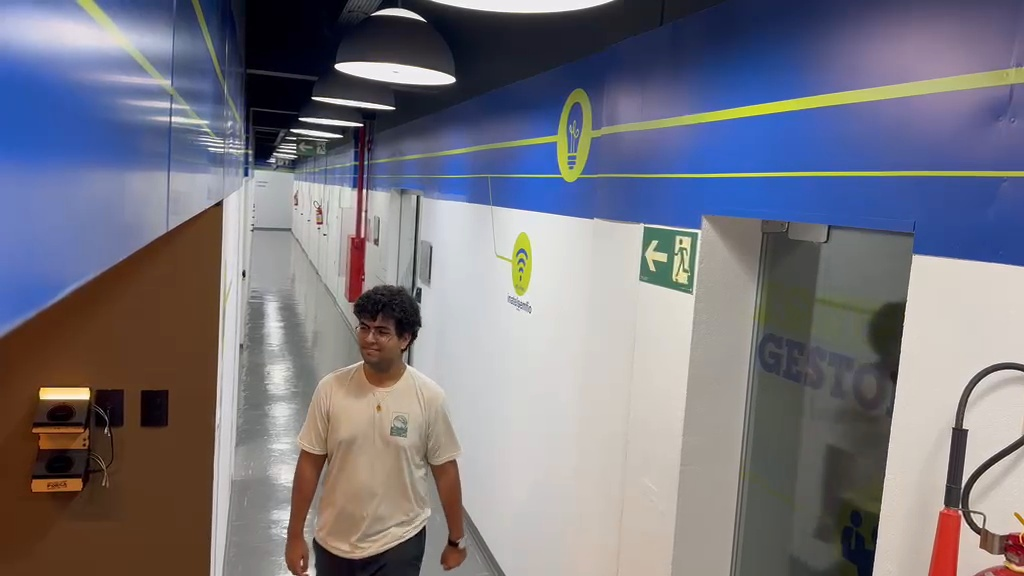person: (282, 282, 468, 573)
